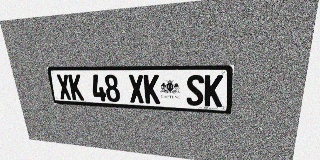4: (90, 74, 107, 101)
8: (104, 74, 120, 102)
K: (204, 75, 223, 107), (143, 75, 160, 104), (68, 74, 84, 100)
S: (186, 75, 204, 106)
X: (128, 75, 145, 103), (56, 74, 72, 100)
